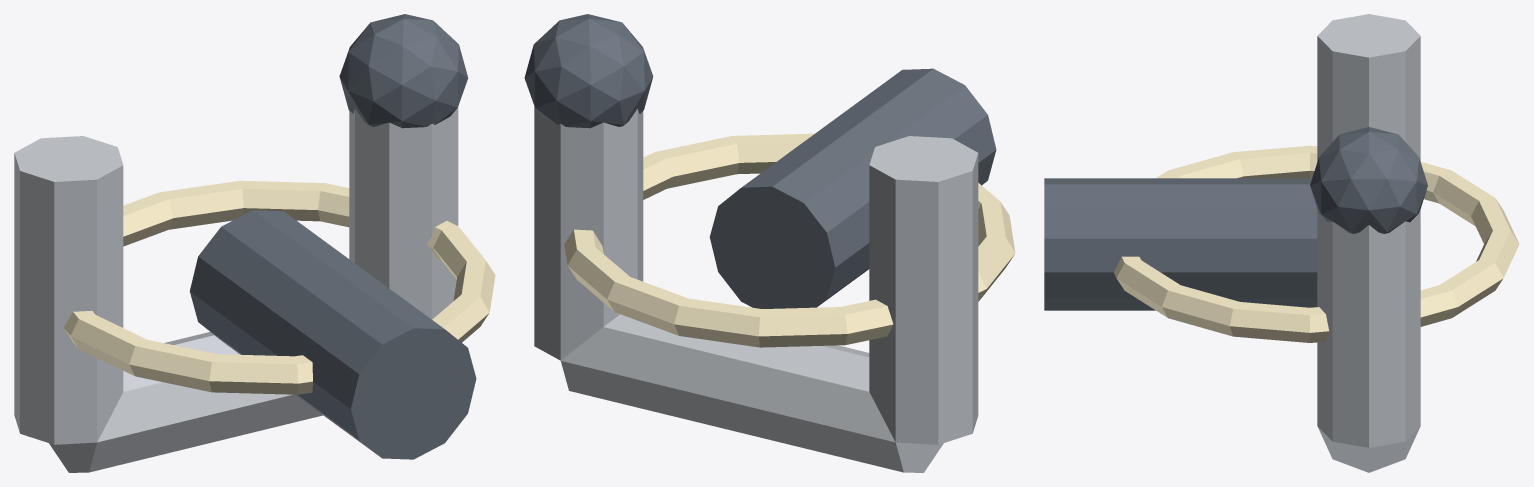
File: iman_3.glb
3 renders of one model, left to right at view 1: azimuth 30°, elevation 25°; view 2: azimuth 150°, elevation 25°; view 3: azimuth 270°, elevation 25°, orthographic. The views are drawn at different scales.
Visible parts, largest first — view 1: mango, herradura_izq, bobina, herradura_der, herradura_base, polo; view 2: herradura_izq, mango, herradura_base, bobina, herradura_der, polo; view 3: mango, herradura_der, bobina, herradura_izq, polo, herradura_base.
Boxes of the visible parts, <box> form: mango: <box>189,210,476,459</box>; herradura_izq: <box>14,136,123,444</box>; bobina: <box>63,180,495,394</box>; herradura_der: <box>349,107,458,319</box>; herradura_base: <box>49,332,322,472</box>; polo: <box>339,14,468,128</box>; herradura_izq: <box>869,136,978,444</box>; mango: <box>709,68,996,308</box>; herradura_base: <box>561,314,943,472</box>; bobina: <box>564,133,1015,347</box>; herradura_der: <box>534,106,643,360</box>; polo: <box>524,14,653,128</box>; mango: <box>1044,178,1317,310</box>; herradura_der: <box>1317,209,1420,447</box>; bobina: <box>1114,145,1519,342</box>; herradura_izq: <box>1317,14,1420,161</box>; polo: <box>1310,127,1427,233</box>; herradura_base: <box>1318,426,1420,472</box>.
Bounding box in the file's own units: 0.8804 × 0.7127 × 0.9.
